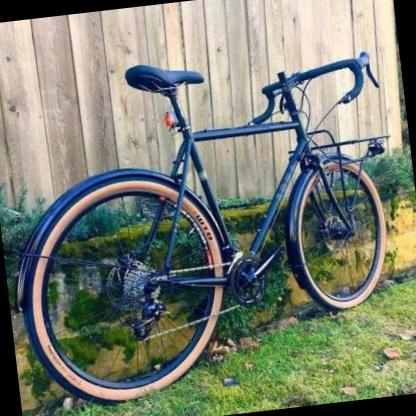Bicycle: (7, 35, 415, 400)
